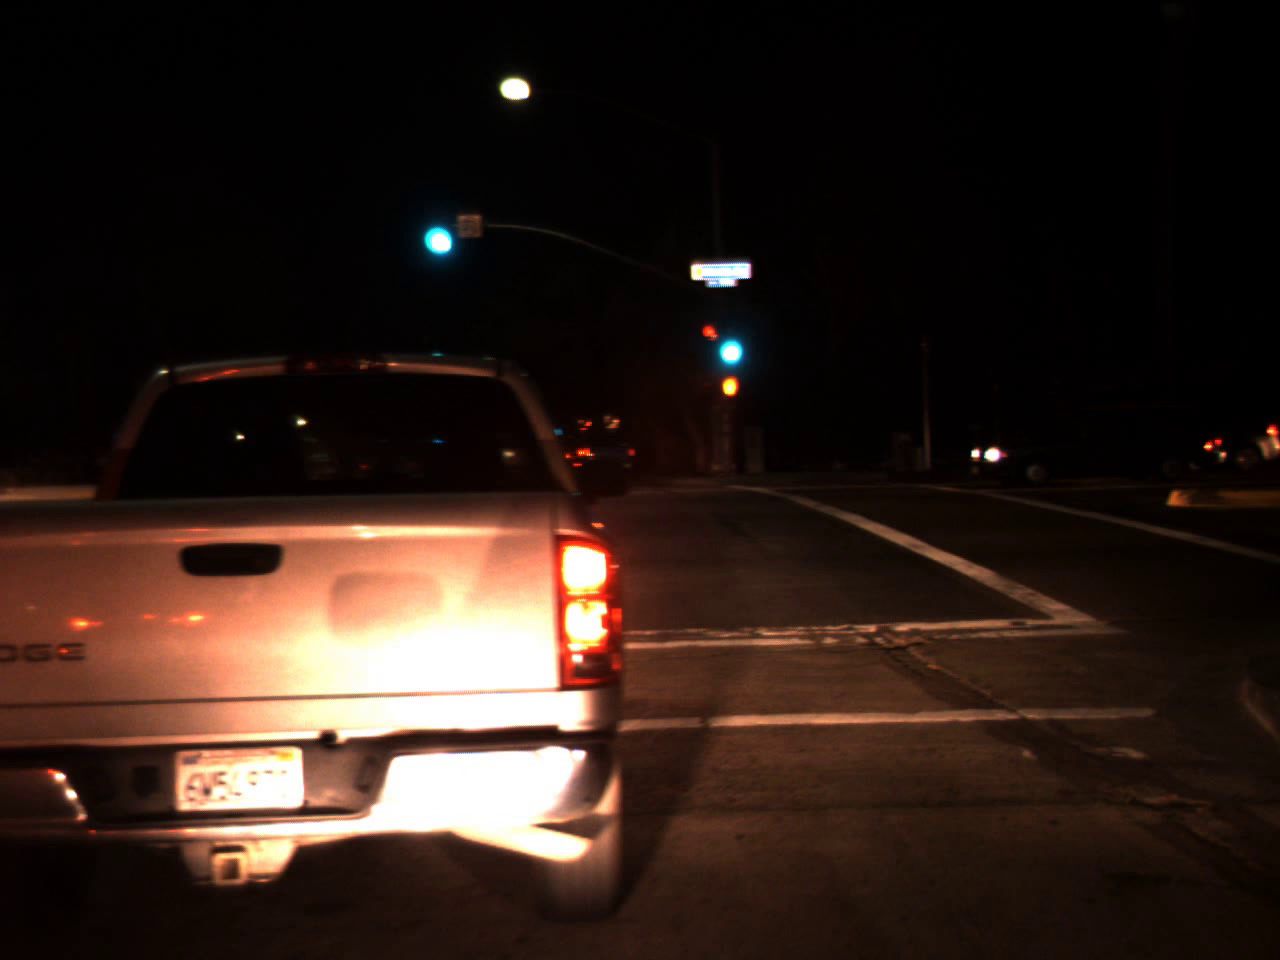go: (413, 190, 459, 265), (709, 306, 748, 375)
